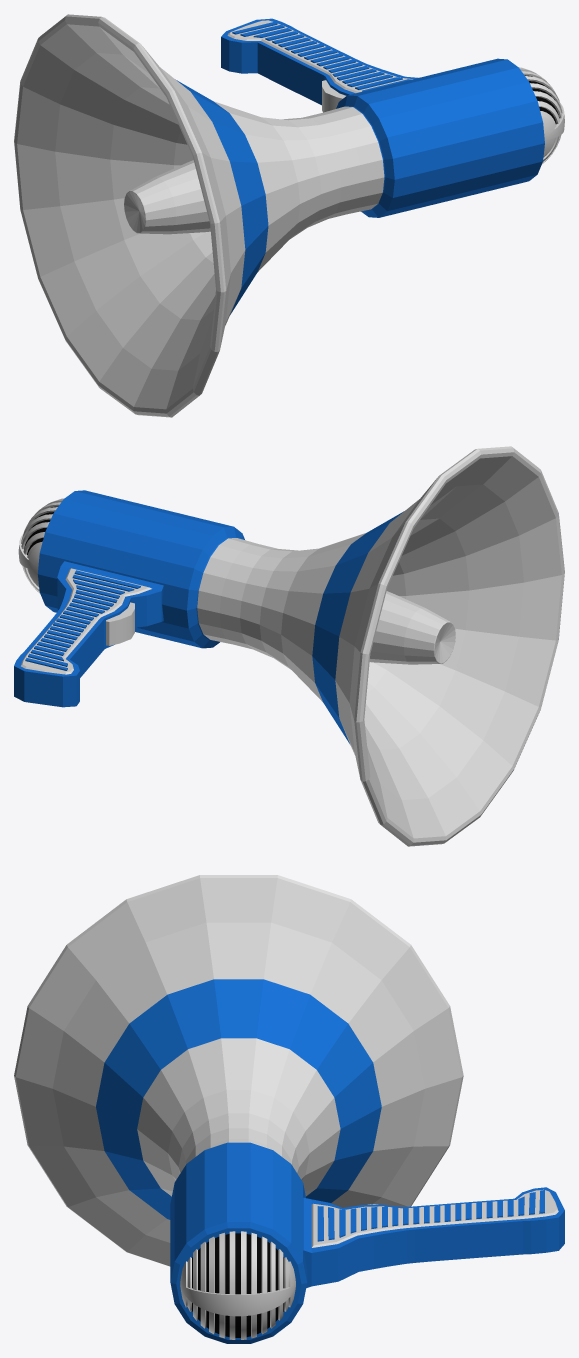
The model's file is megaphone fbx.FBX.
3 renders of one model, top to bottom at view 1: azimuth 30°, elevation 25°; view 2: azimuth 150°, elevation 25°; view 3: azimuth 270°, elevation 25°, orthographic. The views are drawn at different scales.
Visible parts, largest first — view 1: artnemart Megaphone; view 2: artnemart Megaphone; view 3: artnemart Megaphone.
Part boxes in pixels (box(x1,y1,x2,y2)): artnemart Megaphone: box(14, 14, 564, 417); artnemart Megaphone: box(14, 446, 564, 846); artnemart Megaphone: box(14, 875, 564, 1343).
Size of the model in its own units: 235 by 189 by 236.
